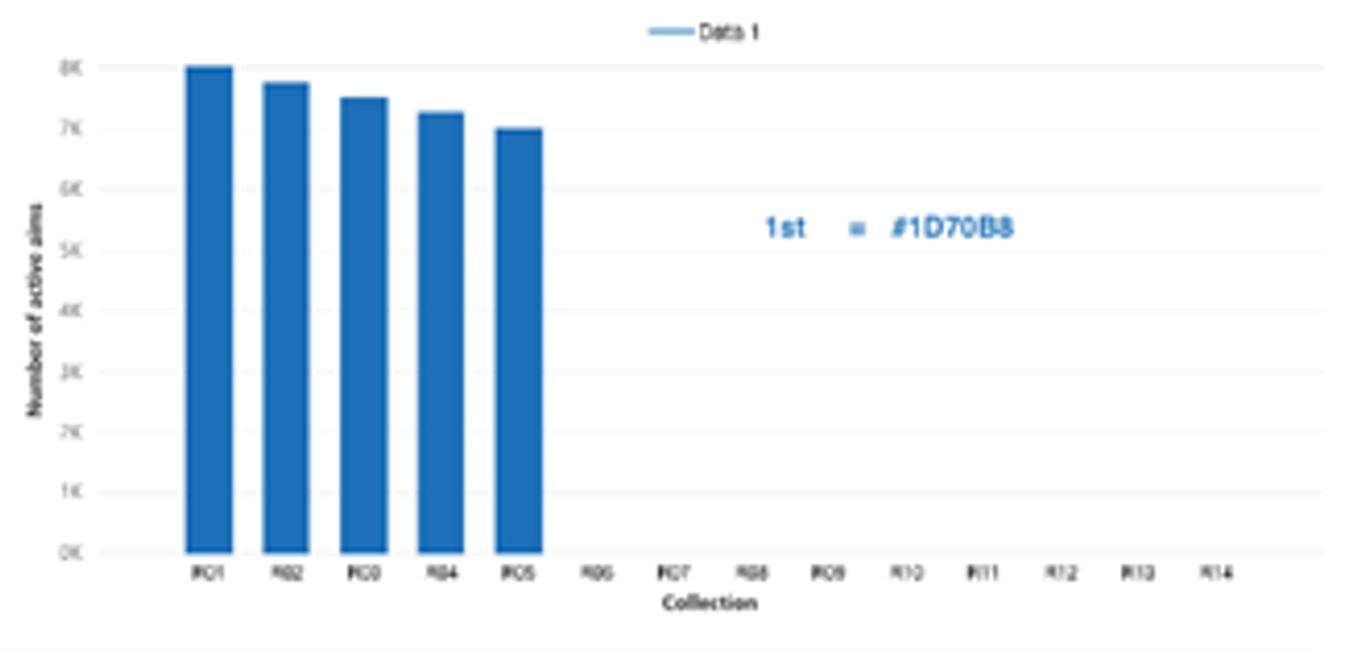

The page's visual inventory and layout, read from the dashboard file:
{"tool":"powerbi","page":{"name":"Page 1","canvas":[1280,720],"ordinal":0},"visuals":[{"type":"columnChart","fields":{"Category":["Table.Name"],"Y":["Sum(Table.Data)"]},"box":[287.9,122.6,633.2,441.6],"z":0}]}

Visuals, with their boxes on the page's 1280x720 design canvas (x1, y1, x2, y2). These are canvas units, not pixel positions in the 1347x652 screenshot, which may show the page scaled, cropped or inside an application window:
columnChart - Table.Name x Sum(Table.Data): box=[288, 123, 921, 564]
